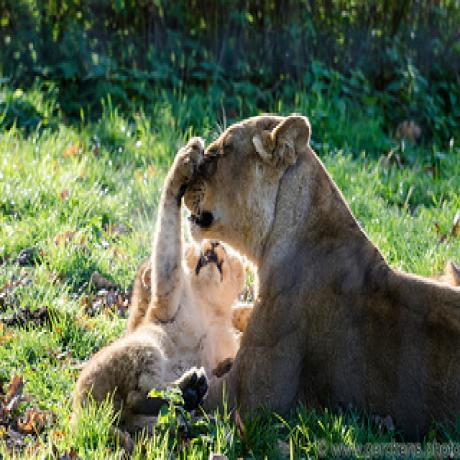Lion: (186, 101, 460, 438), (73, 133, 241, 434)
